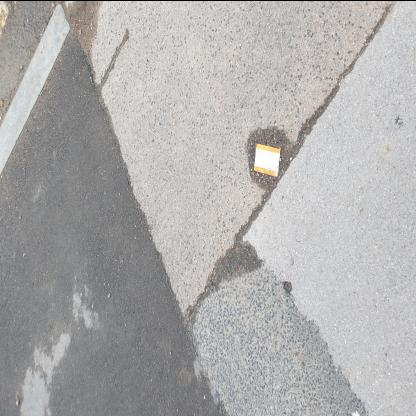plastik: (254, 142, 280, 176)
